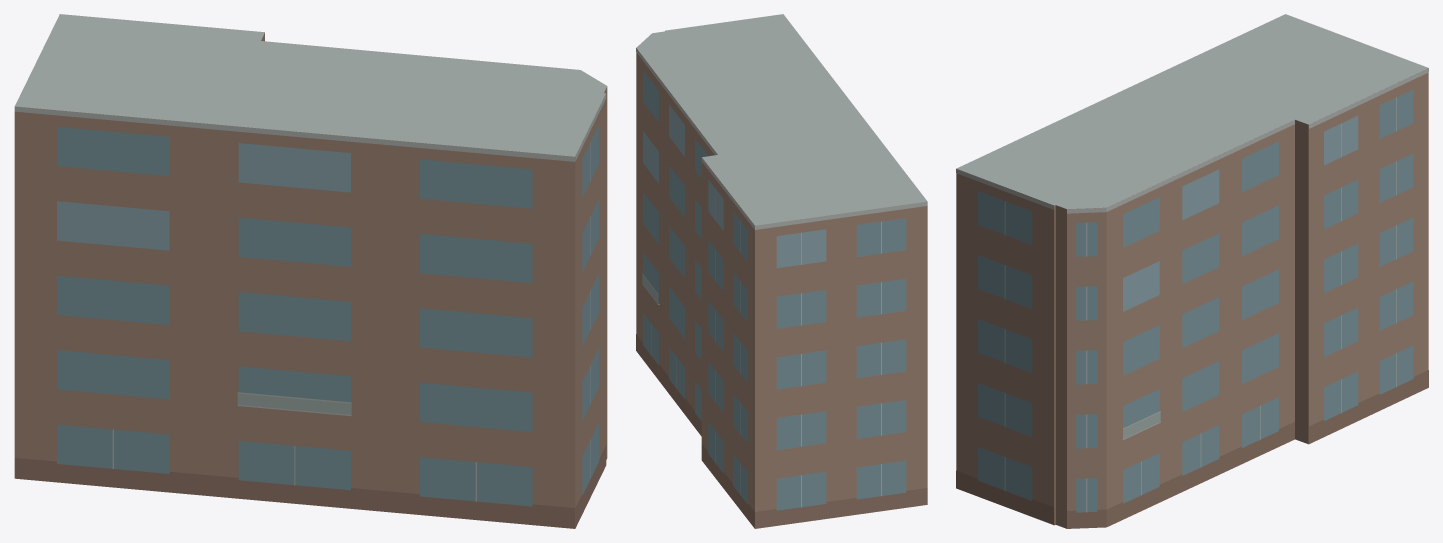
File: survey-upis-32946509.glb
3 views of the same model, side by side, from view 1: azimuth 30°, elevation 25°; view 2: azimuth 150°, elevation 25°; view 3: azimuth 270°, elevation 25° (orthographic). The views are drawn at different scales.
Visible parts, largest first — view 1: survey-upis-32946509.tmp; view 2: survey-upis-32946509.tmp; view 3: survey-upis-32946509.tmp.
Boxes of the visible parts, left/top/right/bottom form: survey-upis-32946509.tmp: left=14, top=14, right=607, bottom=528; survey-upis-32946509.tmp: left=636, top=14, right=927, bottom=528; survey-upis-32946509.tmp: left=956, top=14, right=1428, bottom=528.
Bounding box in the file's own units: 22.92 × 17.5 × 23.46.
